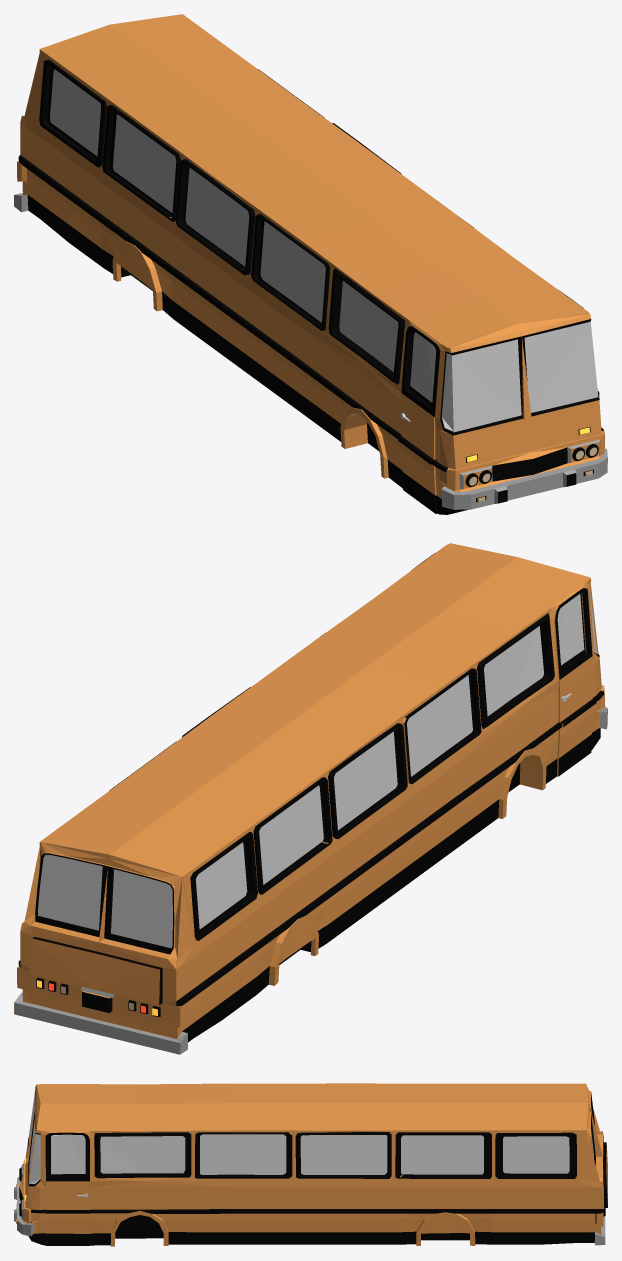
File: Icarus.fbx
3 renders of one model, top to bottom at view 1: azimuth 30°, elevation 25°; view 2: azimuth 150°, elevation 25°; view 3: azimuth 270°, elevation 25°, orthographic. The views are drawn at different scales.
Visible parts, largest first — view 1: Circle; view 2: Circle; view 3: Circle.
Boxes of the visible parts, left/top/right/bottom form: Circle: left=14, top=14, right=607, bottom=514; Circle: left=14, top=543, right=607, bottom=1054; Circle: left=14, top=1083, right=607, bottom=1246.
Size of the model in its own units: 582 by 127 by 127.
